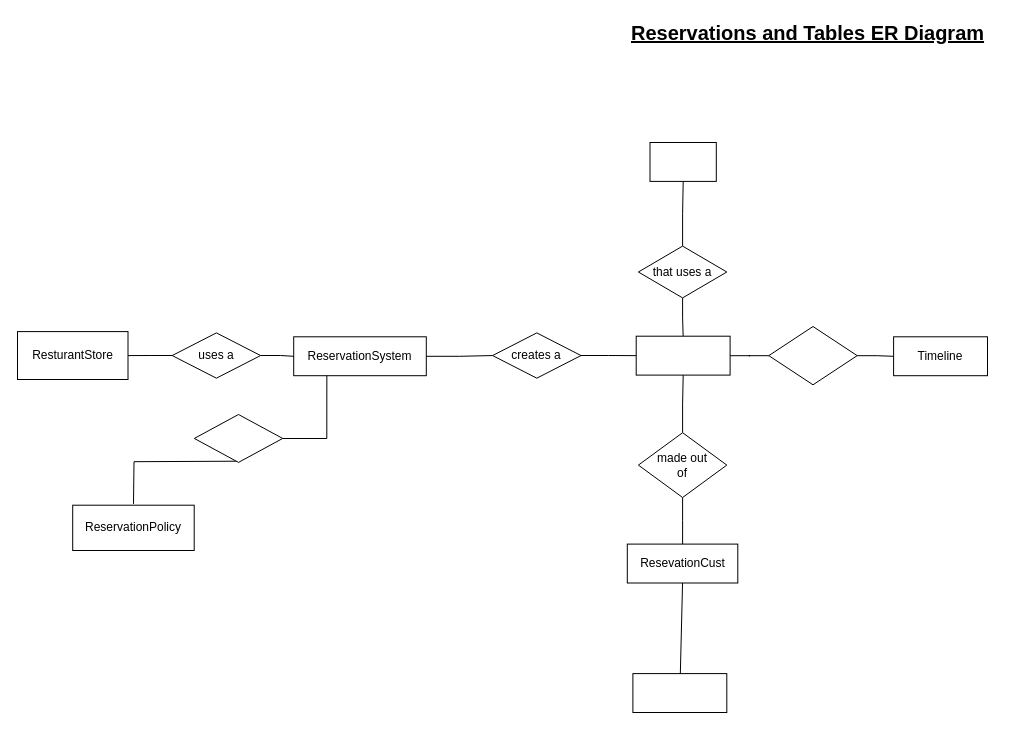
Image size: 1010x730. Some labels were removed from this diagram. Here are the shapes that lost their labels. From the top down, the centre of each, then its label:
[682,161]: Table
[682,355]: Reservation
[812,355]: in a specific
[238,438]: refers to
[679,692]: Customer
